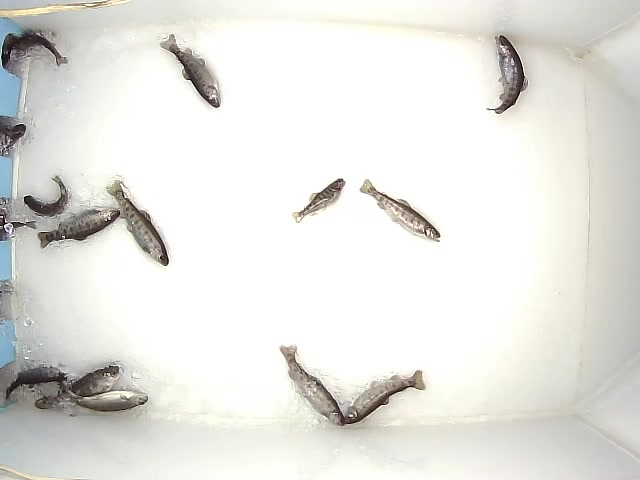fish: (274, 339, 344, 430), (105, 175, 172, 269), (358, 176, 444, 243), (157, 28, 225, 110), (338, 366, 426, 425), (36, 206, 120, 253), (48, 363, 123, 412), (486, 32, 529, 116), (56, 382, 151, 418), (290, 173, 349, 225), (3, 362, 68, 401), (21, 171, 73, 212)
